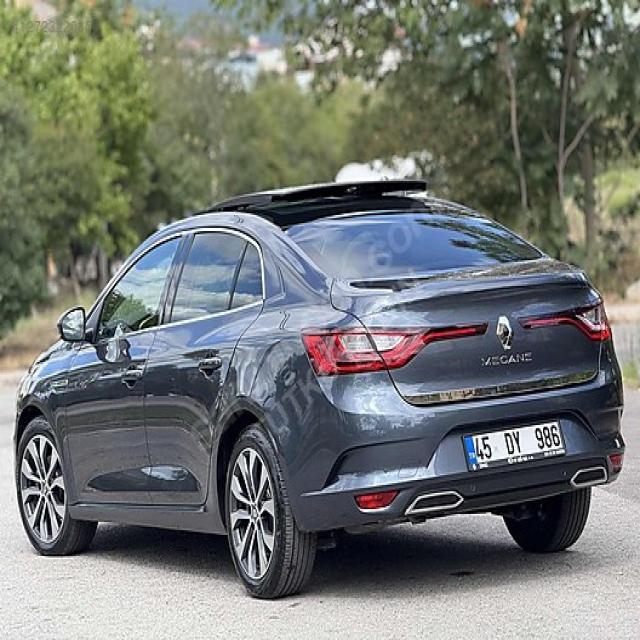renault: (496, 312, 516, 355)
